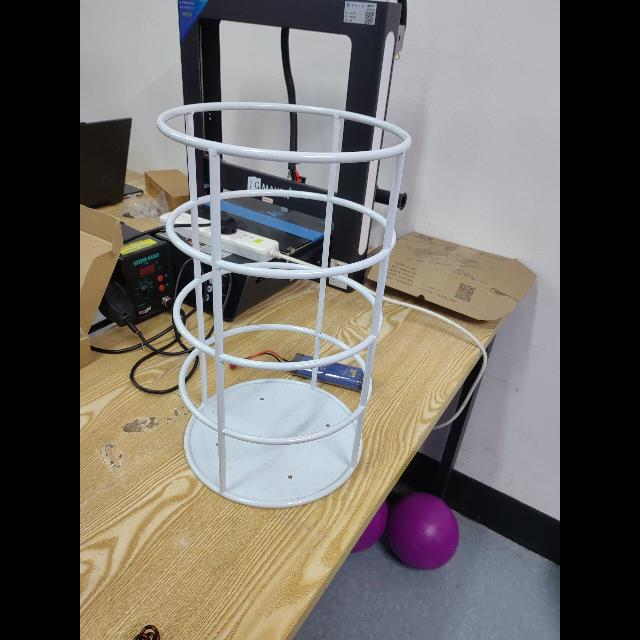S: (154, 98, 416, 512)
